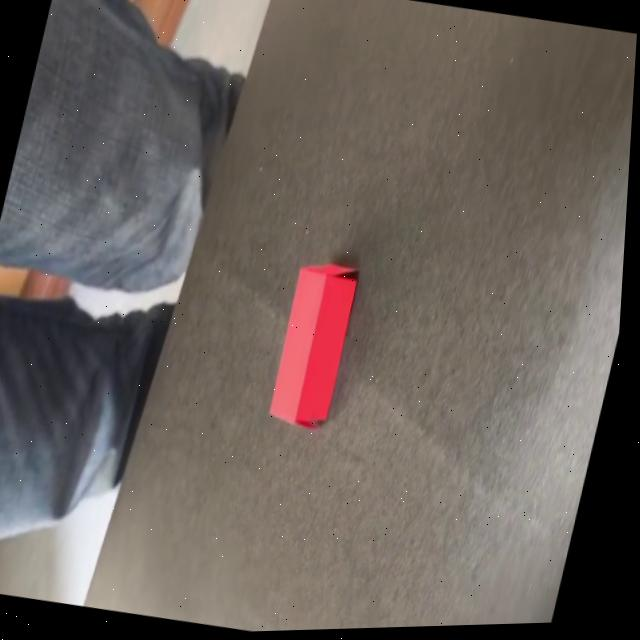red block: (261, 255, 363, 435)
